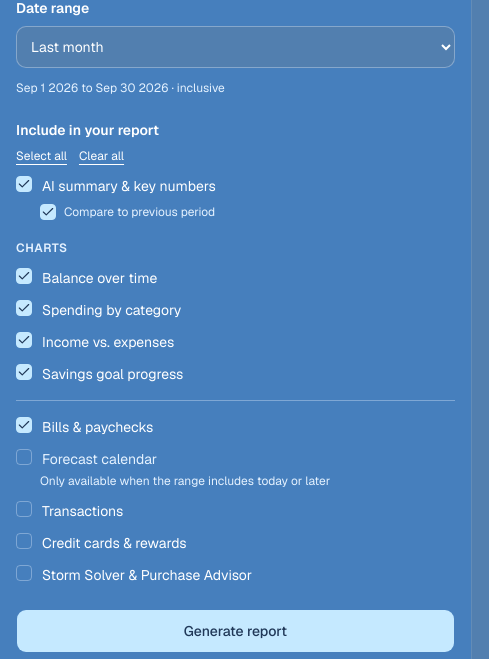
updates presets and rejects an invalid custom range
Select "This month" in the dropdown named "Range preset" at (235, 47), box [16,26,455,68]
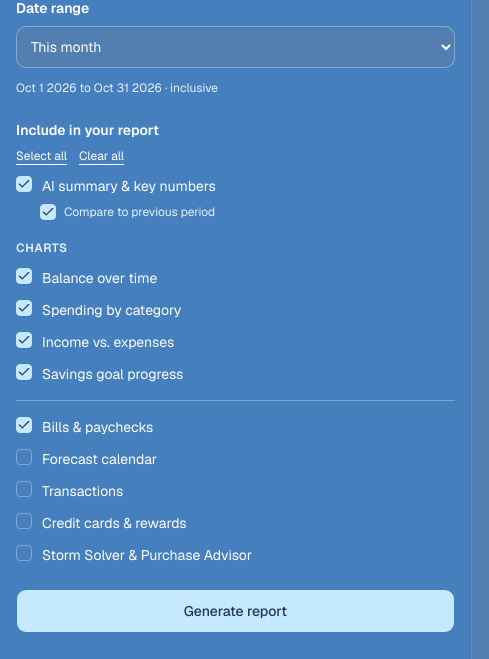
Select "Custom" in the dropdown named "Range preset" at (235, 47), box [16,26,455,68]
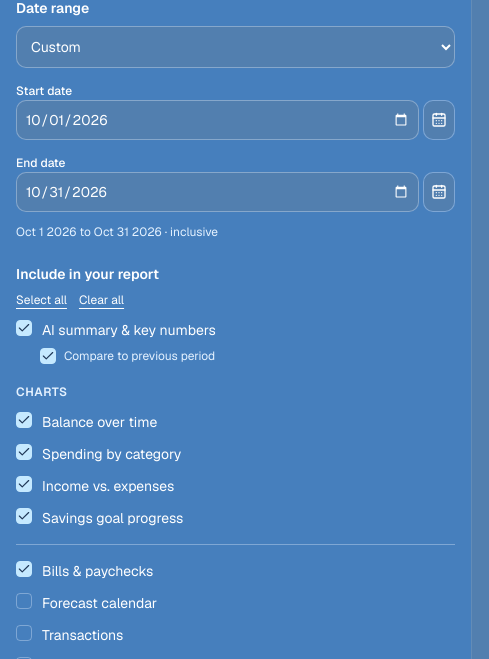
Type "2026-12-31" into the date field labelled "Start date" at (217, 120), box [16,100,419,140]
(page scrolled)
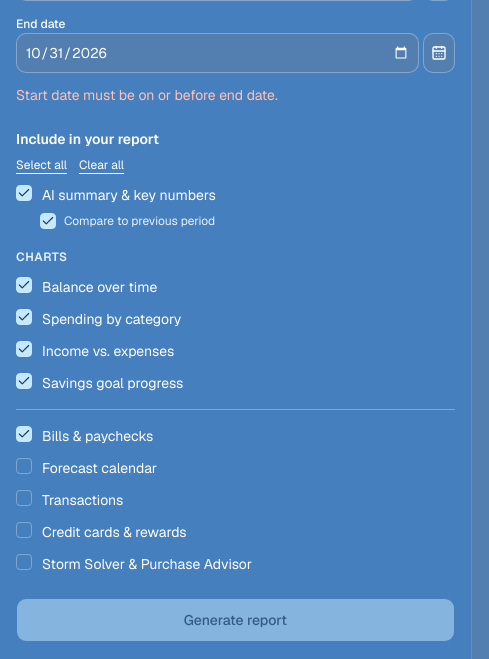
Check: the message shows "Start date", box [16,86,278,104]
Check: the button "Generate report" is disabled, box [16,598,455,642]
